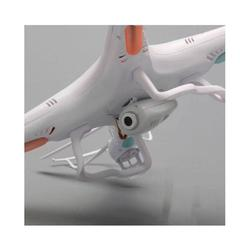drone: (25, 25, 225, 183)
